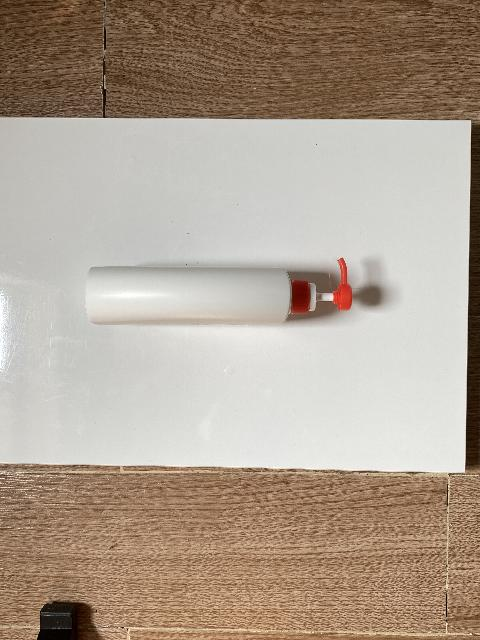life-buoy: (86, 257, 353, 325)
